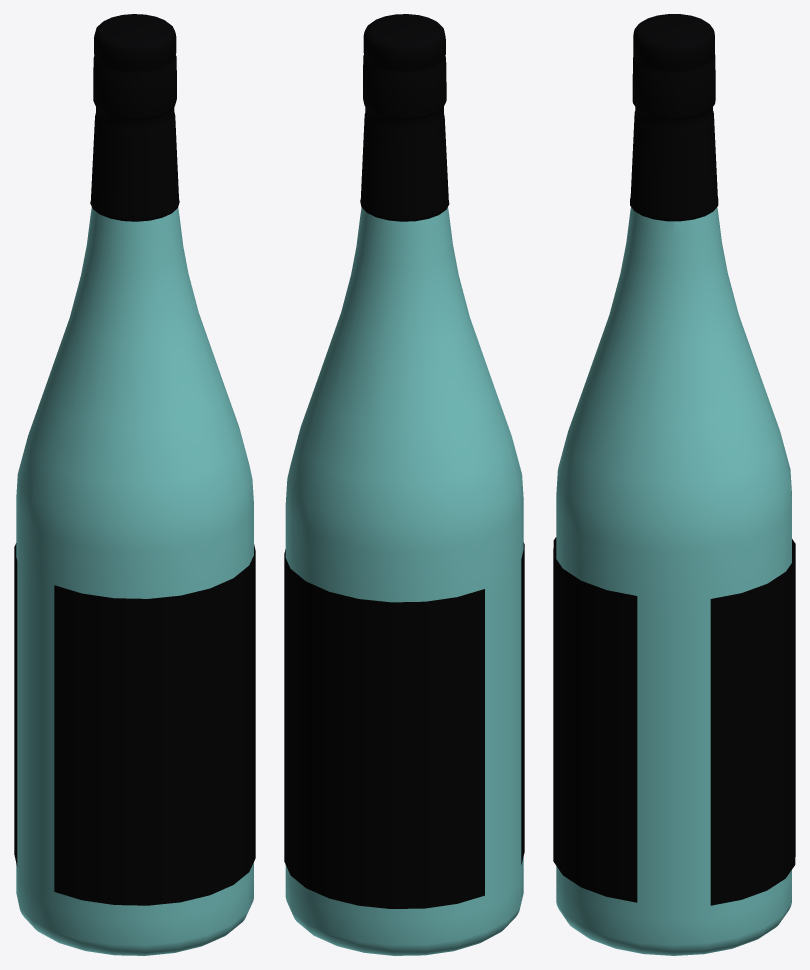
Rendered from bottle_sticker.obj.
The picture shows the model from 3 angles, left to right: view 1: azimuth 30°, elevation 25°; view 2: azimuth 150°, elevation 25°; view 3: azimuth 270°, elevation 25°; orthographic projection.
Visible parts, largest first — view 1: bottle-glass_Plane.013, bottle_sticker_front_Plane.000, bottle-bouchon_Plane.009, bottle_sticker_rear_Plane.002; view 2: bottle-glass_Plane.013, bottle_sticker_rear_Plane.002, bottle-bouchon_Plane.009, bottle_sticker_front_Plane.000; view 3: bottle-glass_Plane.013, bottle_sticker_rear_Plane.002, bottle_sticker_front_Plane.000, bottle-bouchon_Plane.009.
Boxes of the visible parts, <box> form: bottle-glass_Plane.013: <box>16,207,253,955</box>; bottle_sticker_front_Plane.000: <box>54,544,255,905</box>; bottle-bouchon_Plane.009: <box>90,14,179,221</box>; bottle_sticker_rear_Plane.002: <box>14,543,17,866</box>; bottle-glass_Plane.013: <box>285,207,523,955</box>; bottle_sticker_rear_Plane.002: <box>284,549,484,908</box>; bottle-bouchon_Plane.009: <box>360,14,449,221</box>; bottle_sticker_front_Plane.000: <box>521,542,524,864</box>; bottle-glass_Plane.013: <box>556,207,791,955</box>; bottle_sticker_rear_Plane.002: <box>710,539,795,905</box>; bottle_sticker_front_Plane.000: <box>553,537,637,902</box>; bottle-bouchon_Plane.009: <box>630,14,718,221</box>.
Size of the model in its own units: 10.52 by 43.09 by 10.69.
